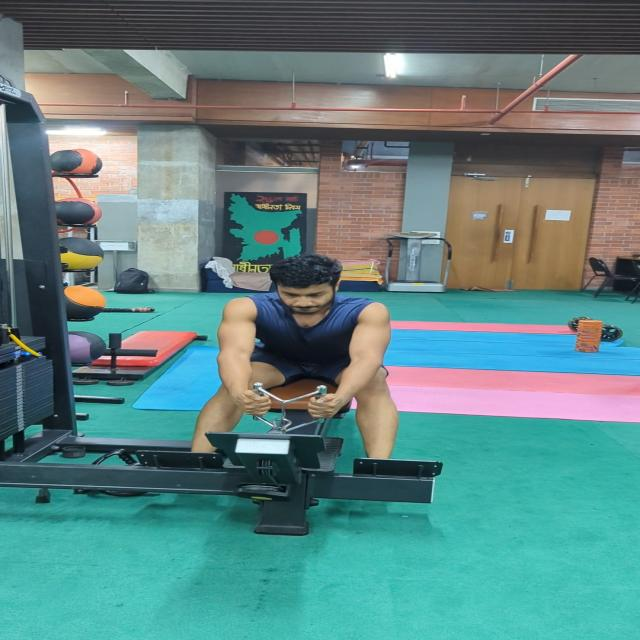Normal_RowingMachineExercise: (187, 253, 400, 459)
